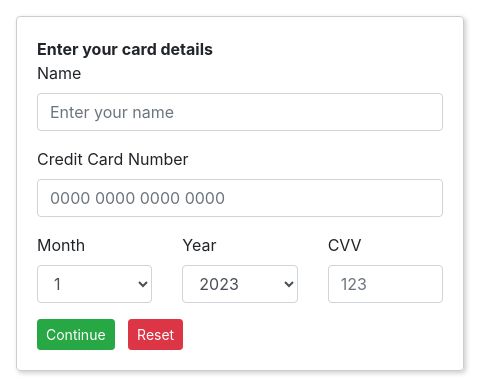
Scenario: handles card number input change
Step 1. Type "1234567890123456" into the field with placeholder "0000 0000 0000 0000" → (240, 198), box [37, 179, 443, 217]
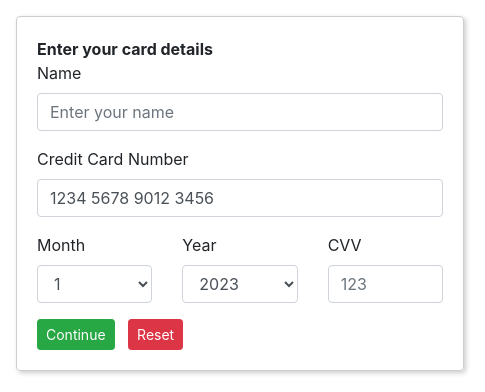
Expected: the field with placeholder "0000 0000 0000 0000" holds "1234 5678 9012 3456", [37, 179, 443, 217]
